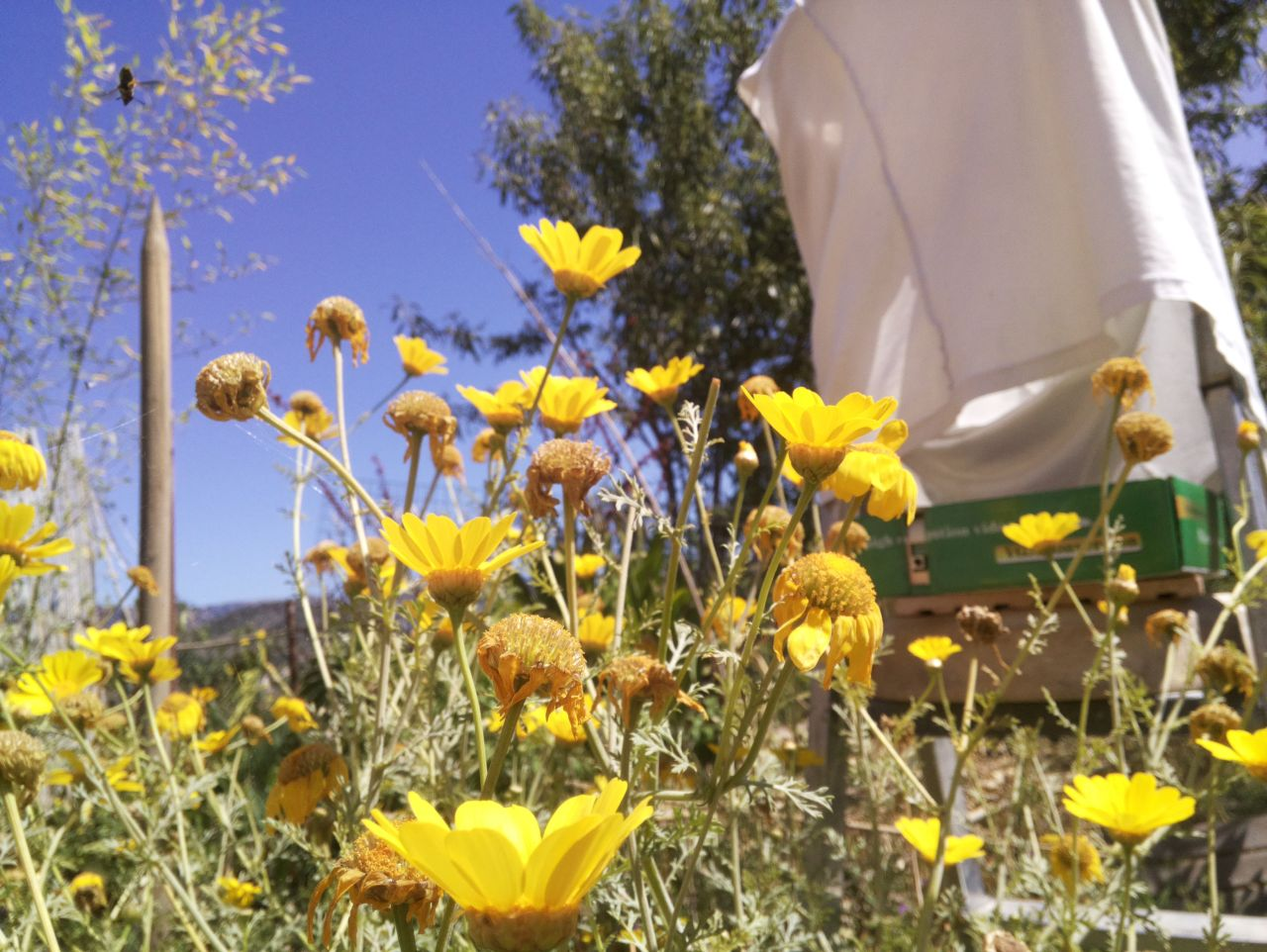Unidentified insect: (98, 62, 158, 115)
